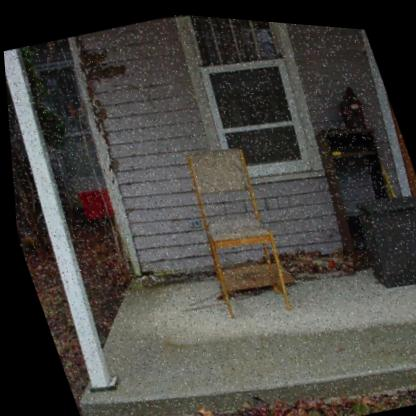Chair: (141, 111, 332, 347)
